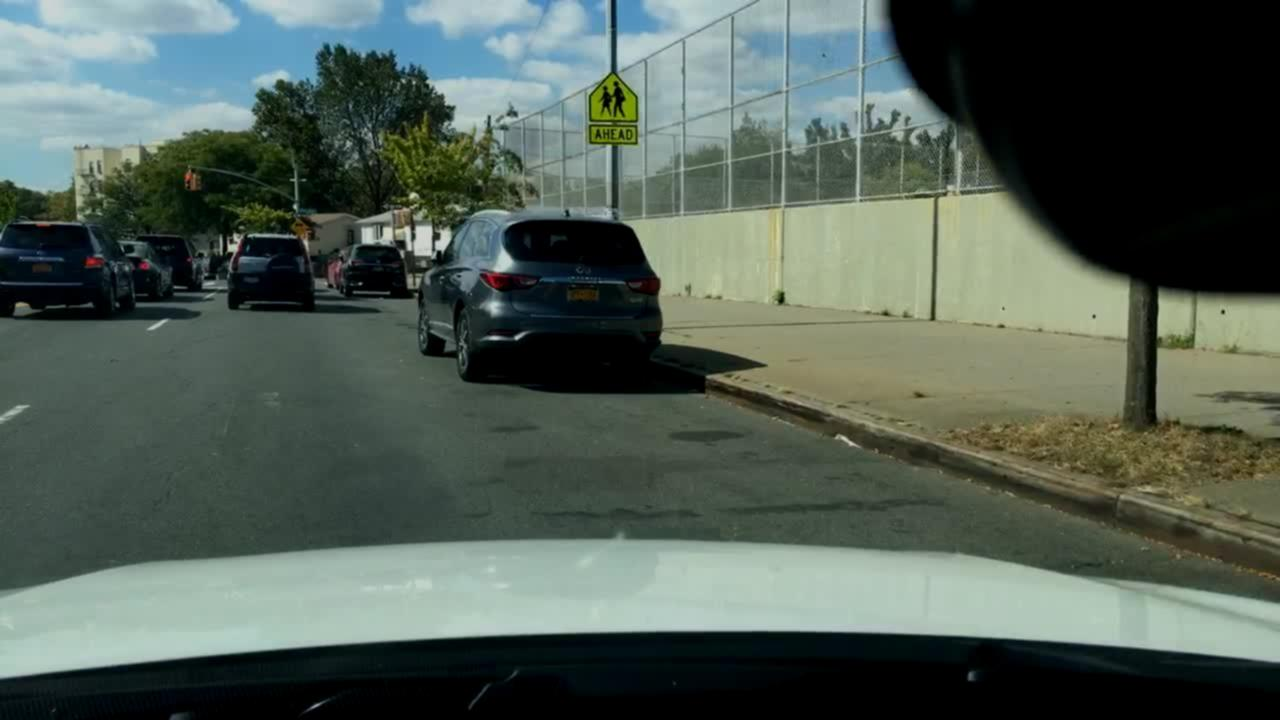Infiniti: (570, 257, 597, 280)
